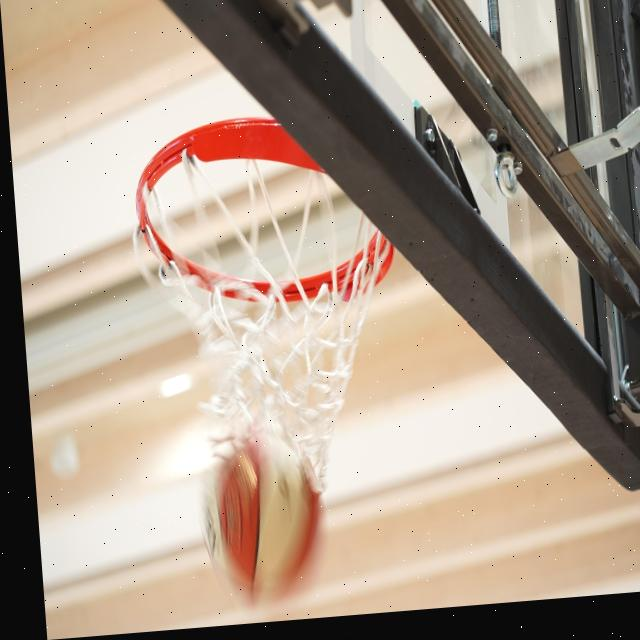Goal: (194, 424, 329, 605)
